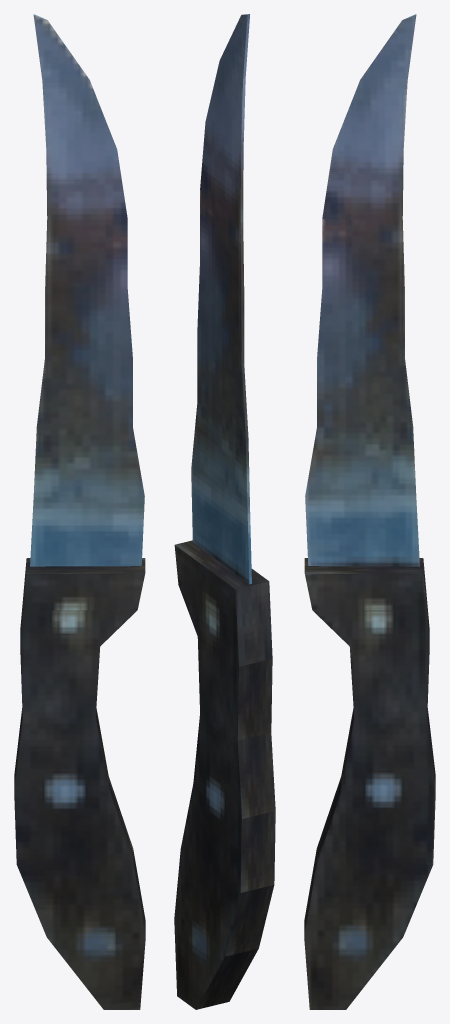
File: psx_rusted_knife.glb
The picture shows the model from 3 angles, left to right: view 1: azimuth 90°, elevation 25°; view 2: azimuth 210°, elevation 25°; view 3: azimuth 270°, elevation 25°; orthographic projection. The views are drawn at different scales.
Visible parts, largest first — view 1: PSX Rusted Knife; view 2: PSX Rusted Knife; view 3: PSX Rusted Knife.
Part boxes in pixels (box(x1,y1,x2,y2)): PSX Rusted Knife: box(14, 14, 145, 1009); PSX Rusted Knife: box(174, 14, 275, 1009); PSX Rusted Knife: box(304, 14, 435, 1009).
Size of the model in its own units: 0.165 by 4.78 by 0.5769.
Materials: 1 (1 with a texture image).
